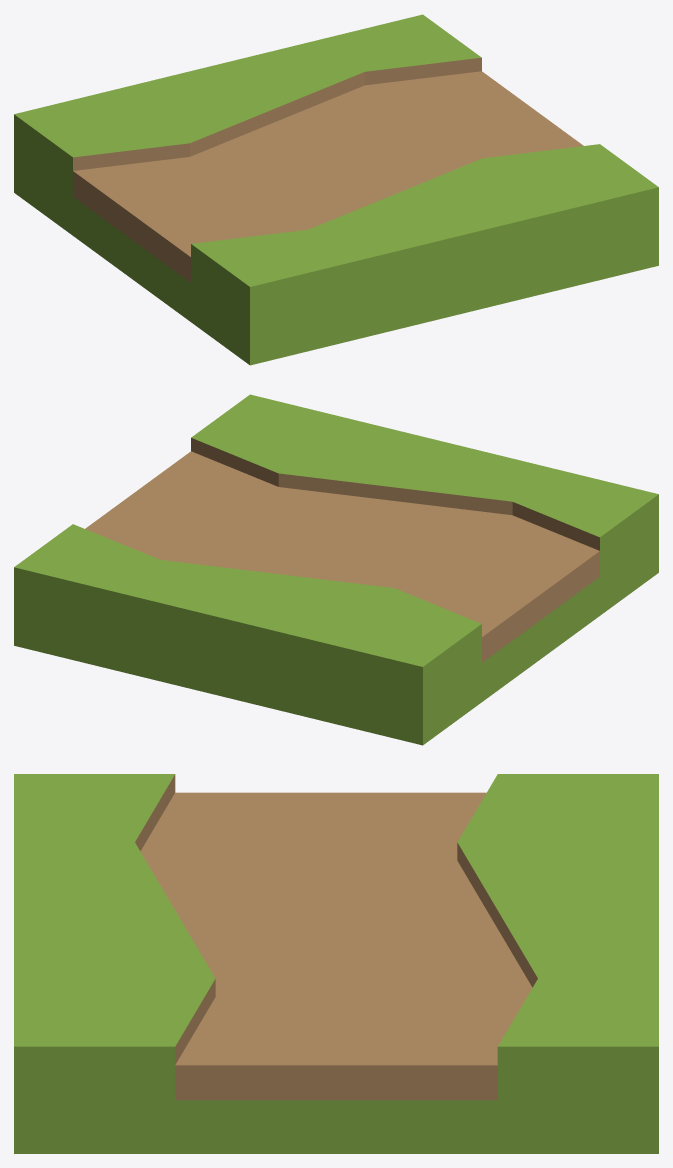
Rendered from tile214.fbx.
3 views of the same model, one above another, from view 1: azimuth 30°, elevation 25°; view 2: azimuth 150°, elevation 25°; view 3: azimuth 270°, elevation 25° (orthographic). The views are drawn at different scales.
Visible parts, largest first — view 1: tile214; view 2: tile214; view 3: tile214.
Boxes of the visible parts, box(x1,y1,x2,y2) form: tile214: box(14, 14, 658, 365); tile214: box(14, 394, 658, 745); tile214: box(14, 774, 658, 1153).
Bounding box in the file's own units: 10 × 1.83 × 10.
